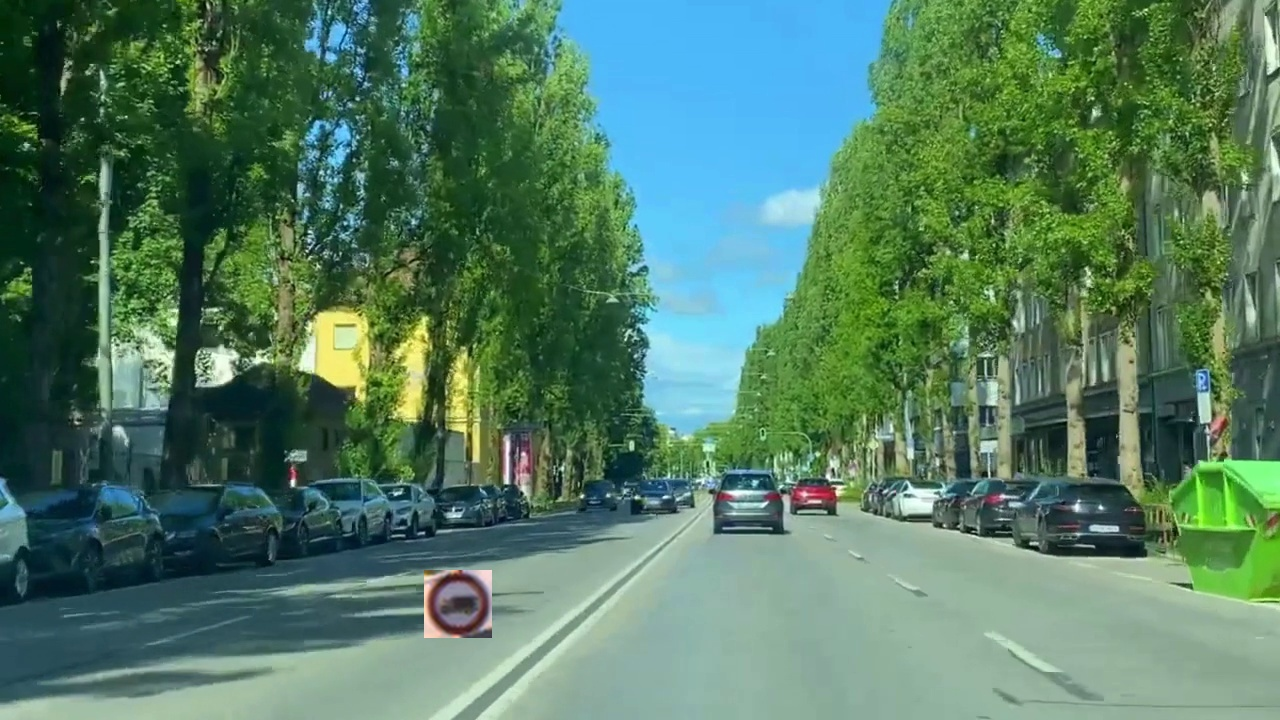Veh >3.5t prohib: (424, 570, 492, 638)
